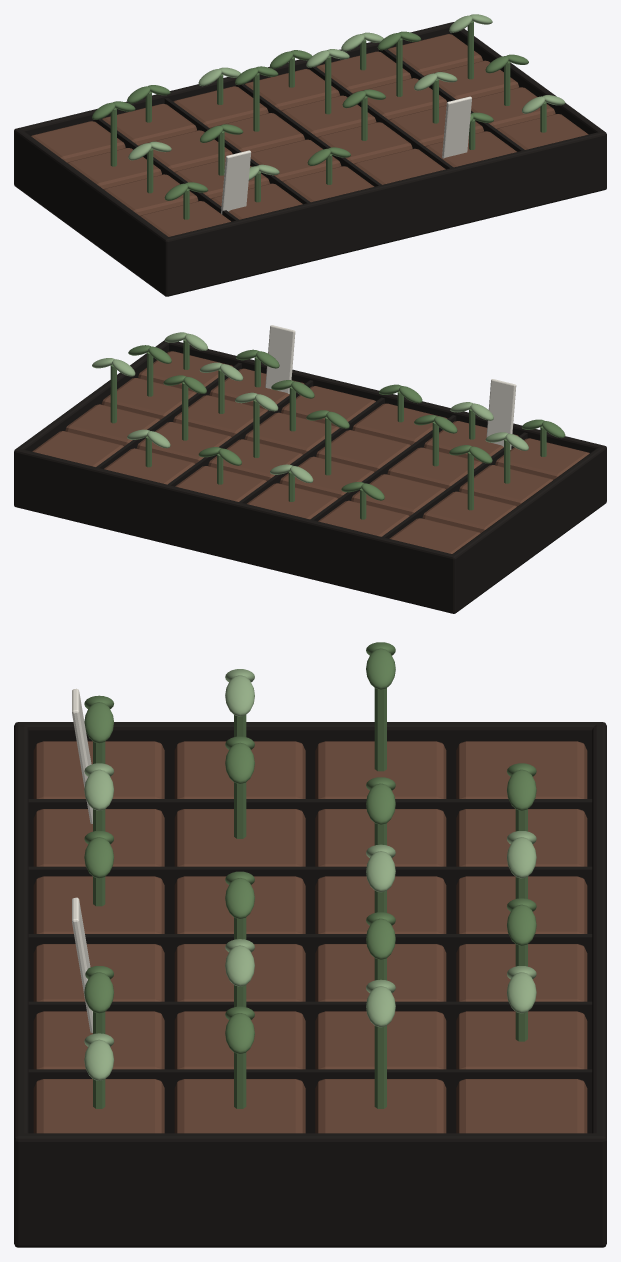
File: hh_cat_seed_trays.glb
3 views of the same model, one above another, from view 1: azimuth 30°, elevation 25°; view 2: azimuth 150°, elevation 25°; view 3: azimuth 270°, elevation 25° (orthographic). The views are drawn at different scales.
Parts seen in each view (by area): view 1: seed_flat.001, seed_flat.002, seed_flat, seed_flat.003, compost.003, compost.023, compost.007, compost.013, compost.011, compost.019, compost.015, compost.014 (+29 smaller); view 2: seed_flat.003, seed_flat.002, seed_flat.001, seed_flat, compost.009, compost.002, compost.005, compost.022, compost.001, compost.017, compost.013, compost.021 (+29 smaller); view 3: seed_flat.004, seed_flat.002, cell_wall.001, cell_wall.003, cell_wall.004, cell_wall.002, cell_wall, compost.019, seed_flat.003, seed_flat.001, compost.005, compost.023 (+45 smaller).
Boxes of the visible parts, box(x1,y1,x2,y2) form: seed_flat.001: box(163, 131, 606, 296); seed_flat.002: box(14, 128, 170, 294); seed_flat: box(14, 180, 605, 295); seed_flat.003: box(14, 22, 453, 186); compost.003: box(31, 121, 125, 162); compost.023: box(388, 34, 482, 75); compost.007: box(102, 103, 197, 145); compost.013: box(317, 122, 412, 163); compost.011: box(173, 86, 268, 128); compost.019: box(316, 51, 411, 93); compost.015: box(245, 69, 339, 110); compost.014: box(281, 95, 376, 137); seed_flat.003: box(14, 448, 456, 613); seed_flat.002: box(450, 446, 605, 612); seed_flat.001: box(168, 341, 606, 503); seed_flat: box(15, 497, 606, 612); compost.009: box(316, 430, 410, 471); compost.002: box(422, 491, 516, 532); compost.005: box(387, 447, 482, 489); compost.022: box(65, 404, 160, 446); compost.001: box(459, 465, 552, 506); compost.017: box(173, 395, 267, 436); compost.013: box(244, 412, 339, 454); compost.021: box(101, 378, 196, 419); seed_flat.004: box(14, 1133, 606, 1247); seed_flat.002: box(19, 722, 604, 798); cell_wall.001: box(28, 866, 592, 933); cell_wall.003: box(28, 1001, 592, 1069); cell_wall.004: box(28, 1069, 592, 1133); cell_wall.002: box(28, 934, 592, 1001); cell_wall: box(28, 799, 592, 866); compost.019: box(456, 1011, 587, 1069); seed_flat.003: box(592, 722, 606, 1247); seed_flat.001: box(14, 722, 28, 1247); compost.005: box(174, 809, 305, 866); compost.023: box(456, 1079, 587, 1133).
Size of the model in its own units: 0.4 by 0.1 by 0.24.
